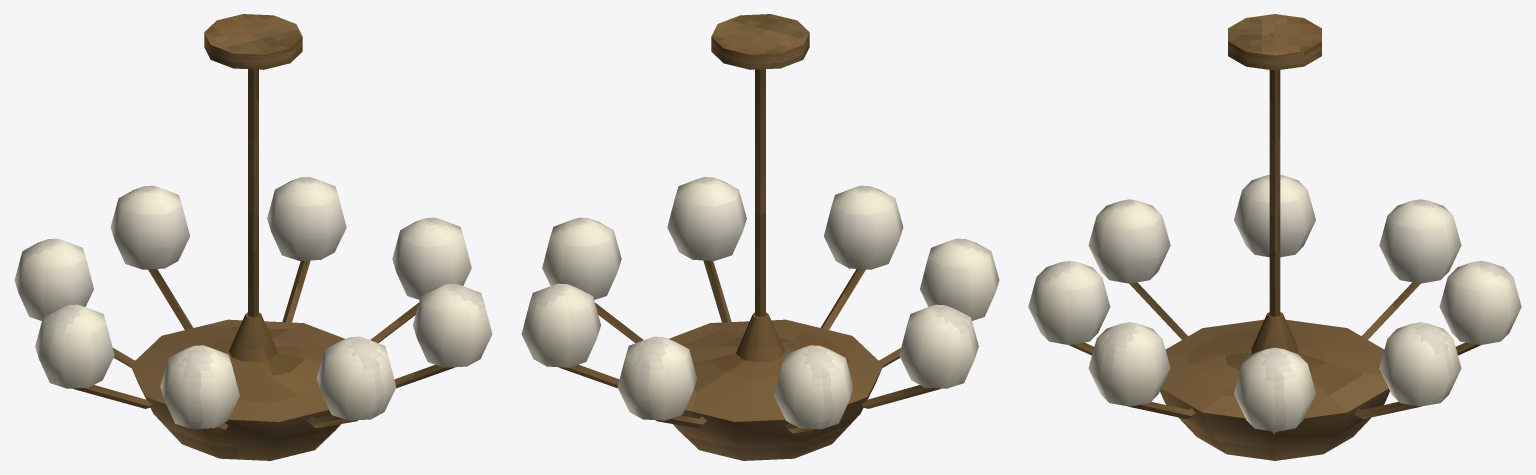
File: chandelier.glb
3 renders of one model, left to right at view 1: azimuth 30°, elevation 25°; view 2: azimuth 150°, elevation 25°; view 3: azimuth 270°, elevation 25°, orthographic.
Parts seen in each view (by area): view 1: chandelier_lamp, chandelier; view 2: chandelier_lamp, chandelier; view 3: chandelier_lamp, chandelier.
Boxes of the visible parts, left/top/right/bottom form: chandelier_lamp: left=14, top=177, right=492, bottom=429; chandelier: left=73, top=14, right=454, bottom=460; chandelier_lamp: left=521, top=177, right=999, bottom=429; chandelier: left=559, top=14, right=940, bottom=460; chandelier_lamp: left=1028, top=175, right=1521, bottom=431; chandelier: left=1069, top=14, right=1480, bottom=460.
Size of the model in its own units: 1.2 by 1.1 by 1.2.
2 materials, 2 textured.
